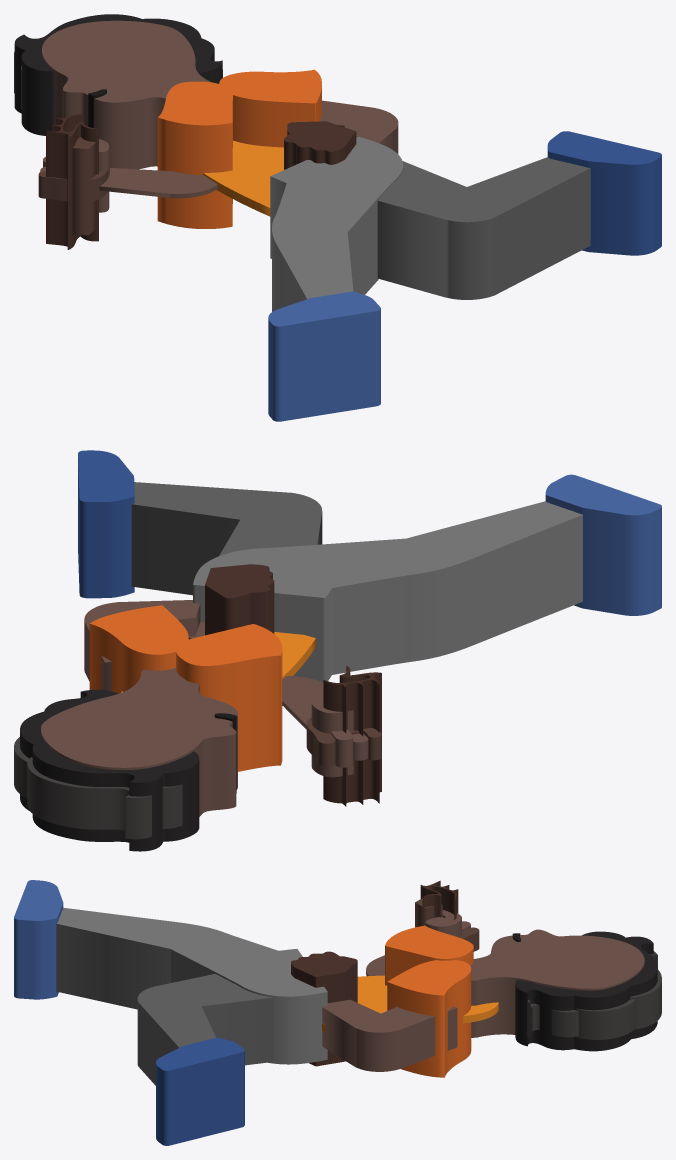
Rendered from emoji_u1f3c3_1f3ff.glb.
The picture shows the model from 3 angles, top to bottom: view 1: azimuth 30°, elevation 25°; view 2: azimuth 150°, elevation 25°; view 3: azimuth 270°, elevation 25°; orthographic projection. The views are drawn at different scales.
Parts seen in each view (by area): view 1: emoji_u1f3c3_1f3ff; view 2: emoji_u1f3c3_1f3ff; view 3: emoji_u1f3c3_1f3ff.
Boxes of the visible parts, x1,y1,x2,y2 form: emoji_u1f3c3_1f3ff: (14, 14, 661, 421); emoji_u1f3c3_1f3ff: (14, 450, 661, 851); emoji_u1f3c3_1f3ff: (14, 880, 661, 1145).
Bounding box in the file's own units: 0.0227 × 0.0052 × 0.0329.
